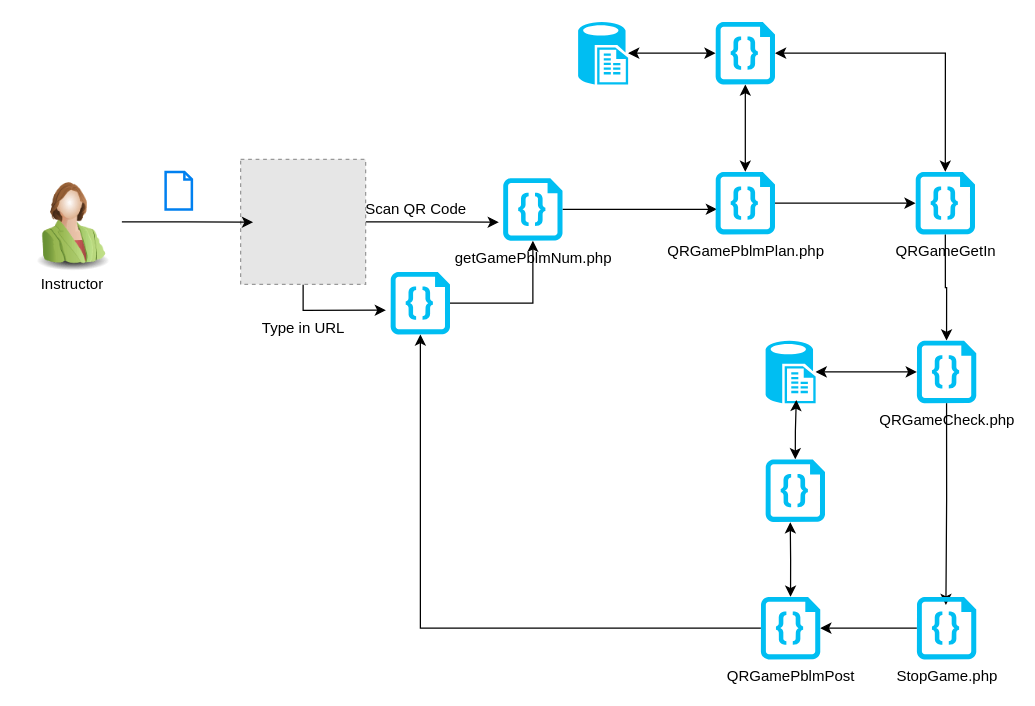
Some shapes in this 1035 by 706 pixel diagram are drawn without their labels. Grey dashed boxes stand in for pictures. The shapes that lost their labels are listed below. From the top down, each one's centre as x and y in pixels, then its label:
At point (744, 52): "fetchWorkTime.php".
At point (419, 302): "QRGameindex.php".
At point (794, 490): "fetchWorkTime".
